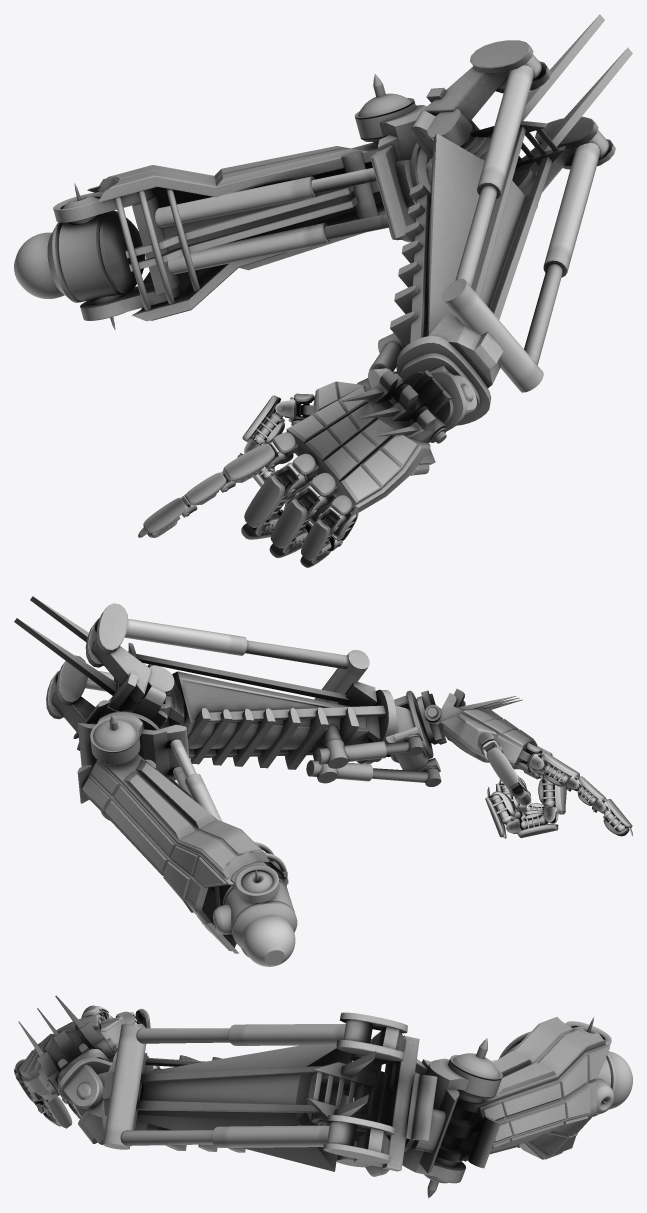
File: robot_arm_wip_2.glb
The picture shows the model from 3 angles, top to bottom: view 1: azimuth 30°, elevation 25°; view 2: azimuth 150°, elevation 25°; view 3: azimuth 270°, elevation 25°; orthographic projection. The views are drawn at different scales.
Visible parts, largest first — view 1: Cube, Cube.001; view 2: Cube, Cube.001; view 3: Cube, Cube.001.
Part boxes in pixels (left/top/right/bottom): Cube: left=14, top=14, right=632, bottom=475; Cube.001: left=138, top=369, right=476, bottom=567; Cube: left=14, top=596, right=441, bottom=966; Cube.001: left=390, top=689, right=632, bottom=838; Cube: left=78, top=1012, right=632, bottom=1198; Cube.001: left=14, top=995, right=150, bottom=1128.
Bounding box in the file's own units: 5.42 × 2.47 × 5.05.
2 materials, 2 textured.
